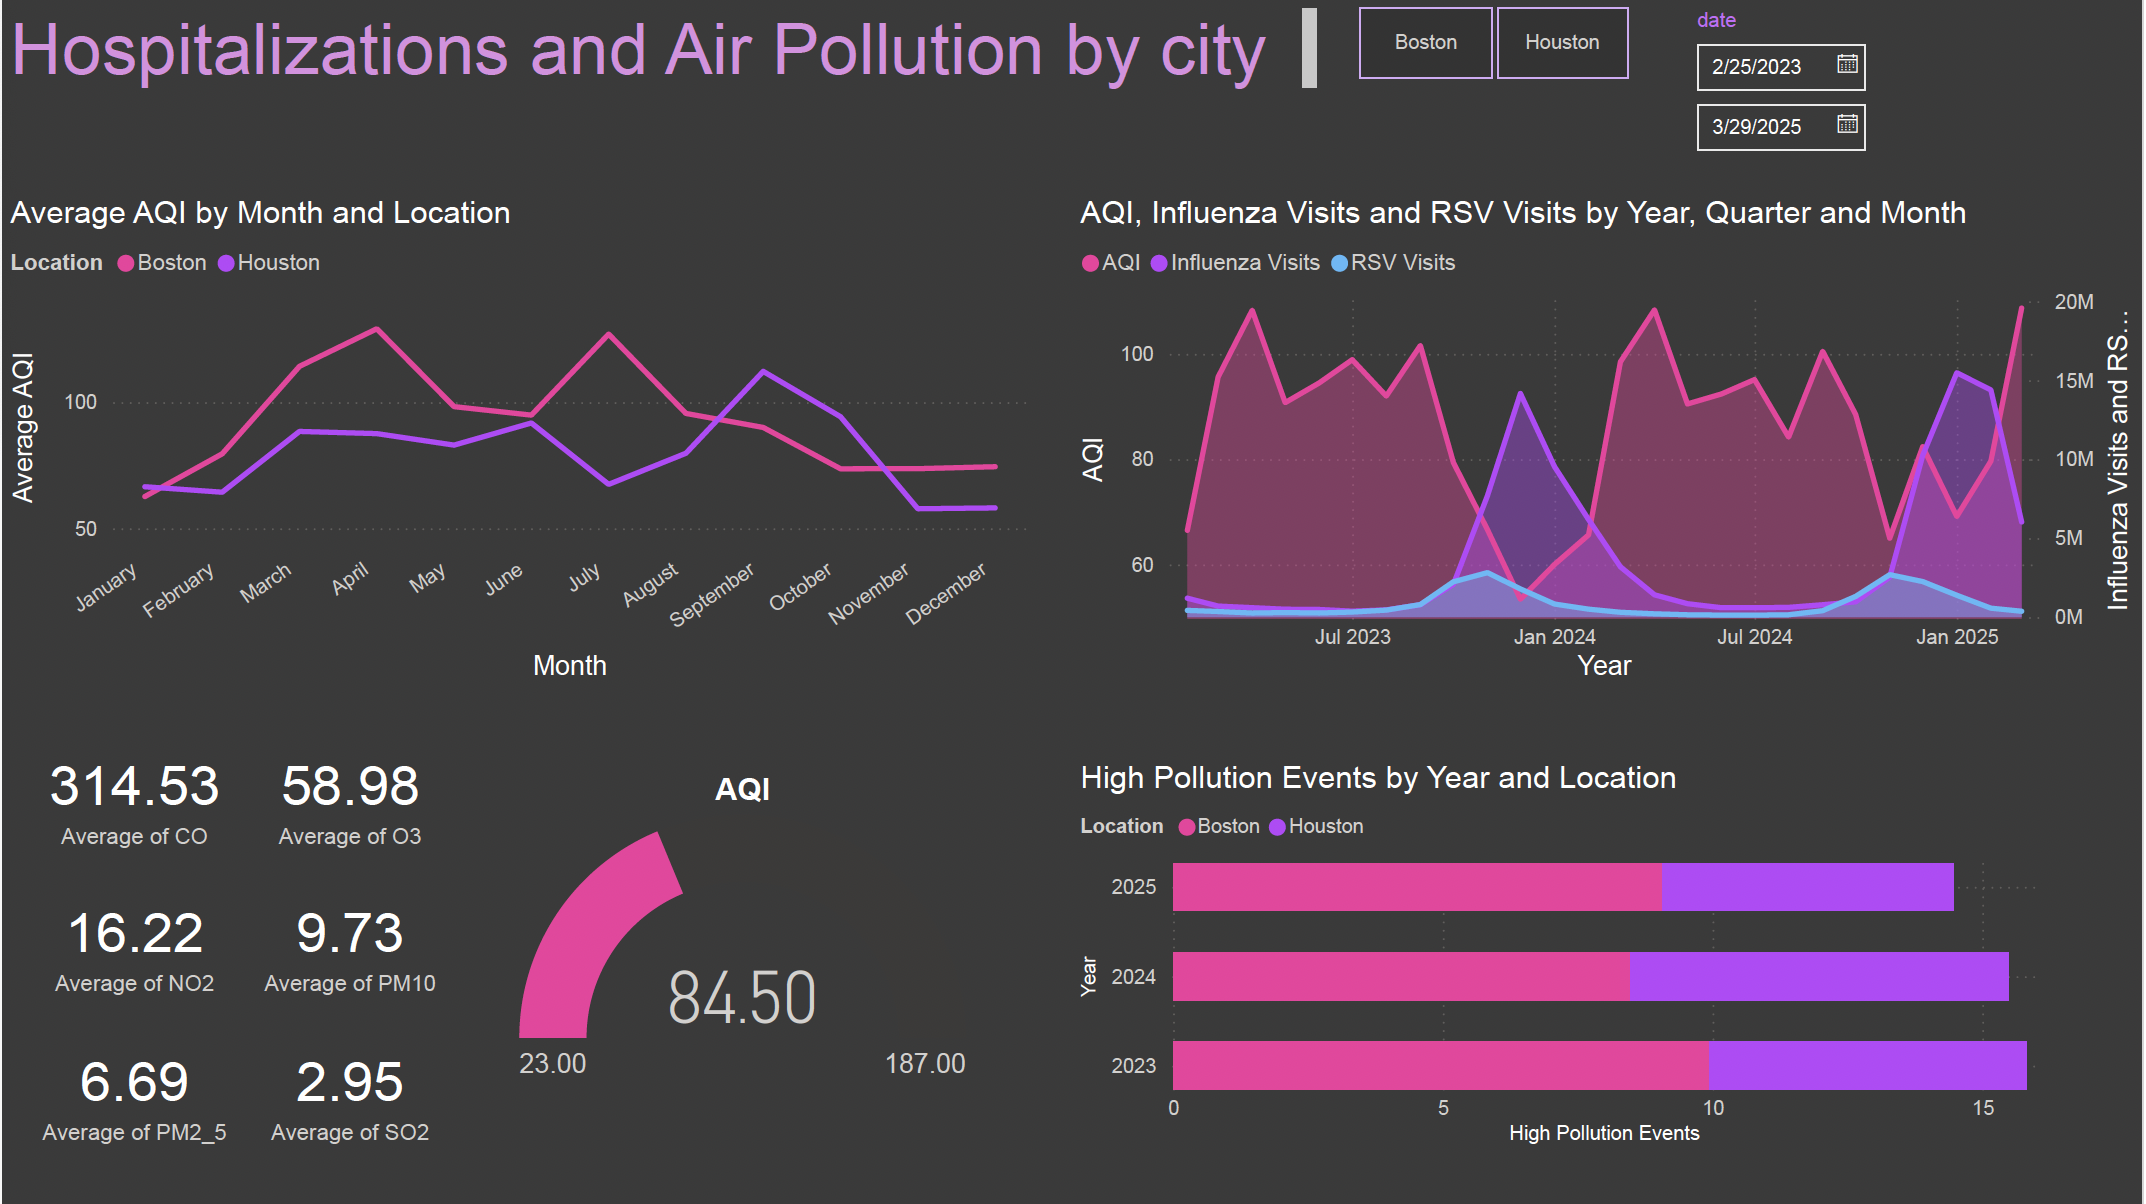

What the dashboard file says about the page in this screenshot:
{"tool":"powerbi","page":{"name":"Historical ","canvas":[1280,720],"ordinal":0},"visuals":[{"type":"card","fields":{"Values":["Median(Combined.avg_co)"]},"box":[15,431.8,128.6,88.6],"z":0},{"type":"card","fields":{"Values":["Median(Combined.avg_o3)"]},"box":[143.6,431.8,128.6,88.6],"z":1000},{"type":"card","fields":{"Values":["Median(Combined.avg_no2)"]},"box":[15,520.4,128.6,88.6],"z":2000},{"type":"card","fields":{"Values":["Median(Combined.avg_pm10)"]},"box":[143.6,520.4,128.6,88.6],"z":3000},{"type":"card","fields":{"Values":["Median(Combined.avg_pm2_5)"]},"box":[15,608.9,128.6,88.6],"z":4000},{"type":"card","fields":{"Values":["Median(Combined.avg_so2)"]},"box":[143.6,608.9,128.6,88.6],"z":5000},{"type":"gauge","title":"AQI","fields":{"Y":["Median(Combined.avg_us_aqi)"],"MinValue":["Min(Combined.avg_us_aqi)"],"MaxValue":["Max(Combined.avg_us_aqi)"]},"box":[267.5,461.2,350,192.5],"z":6000},{"type":"barChart","fields":{"Category":["Combined.date.Variation.Date Hierarchy.Year","Combined.date.Variation.Date Hierarchy.Quarter","Combined.date.Variation.Date Hierarchy.Month","Combined.date.Variation.Date Hierarchy.Day"],"Y":["Avg(Combined.high_pollution_events)"],"Series":["Combined.Location"]},"box":[640,453.8,588.8,235],"z":7000},{"type":"lineChart","fields":{"Category":["Combined.date.Variation.Date Hierarchy.Year","Combined.date.Variation.Date Hierarchy.Quarter","Combined.date.Variation.Date Hierarchy.Month","Combined.date.Variation.Date Hierarchy.Day"],"Y":["Avg(Combined.avg_us_aqi)"],"Series":["Combined.Location"]},"box":[0,116.2,617.5,296.2],"z":8000},{"type":"areaChart","fields":{"Category":["Combined.date.Variation.Date Hierarchy.Year","Combined.date.Variation.Date Hierarchy.Quarter","Combined.date.Variation.Date Hierarchy.Month","Combined.date.Variation.Date Hierarchy.Day"],"Y":["Avg(Combined.avg_us_aqi)"],"Y2":["Avg(Combined.total_visits_influenza)","Avg(Combined.total_visits_rsv)"]},"box":[640,116.2,640,296.2],"z":9000},{"type":"textbox","box":[0,0,791.2,57.5],"z":10000},{"type":"slicer","fields":{"Values":["Combined.Location"]},"box":[791.2,0,201.2,57.5],"z":11000},{"type":"slicer","fields":{"Values":["Combined.date"]},"box":[1001,0,225,78.8],"z":12000}]}

Visuals, with their boxes in screenshot pixels (x1, y1, x2, y2), scaled from the page's 1280x720 canvas onto the 2146x1204 screenshot:
card - Median(Combined.avg_co): bbox=(25, 722, 241, 870)
card - Median(Combined.avg_o3): bbox=(241, 722, 456, 870)
card - Median(Combined.avg_no2): bbox=(25, 870, 241, 1018)
card - Median(Combined.avg_pm10): bbox=(241, 870, 456, 1018)
card - Median(Combined.avg_pm2_5): bbox=(25, 1018, 241, 1166)
card - Median(Combined.avg_so2): bbox=(241, 1018, 456, 1166)
"AQI" gauge: bbox=(448, 771, 1035, 1093)
barChart - Combined.date.Variation.Date Hierarchy.Year x Combined.date.Variation.Date Hierarchy.Quarter: bbox=(1073, 759, 2060, 1152)
lineChart - Combined.date.Variation.Date Hierarchy.Year x Combined.date.Variation.Date Hierarchy.Quarter: bbox=(0, 194, 1035, 690)
areaChart - Combined.date.Variation.Date Hierarchy.Year x Combined.date.Variation.Date Hierarchy.Quarter: bbox=(1073, 194, 2145, 690)
textbox: bbox=(0, 0, 1326, 96)
slicer - Combined.Location: bbox=(1326, 0, 1664, 96)
slicer - Combined.date: bbox=(1678, 0, 2055, 132)
